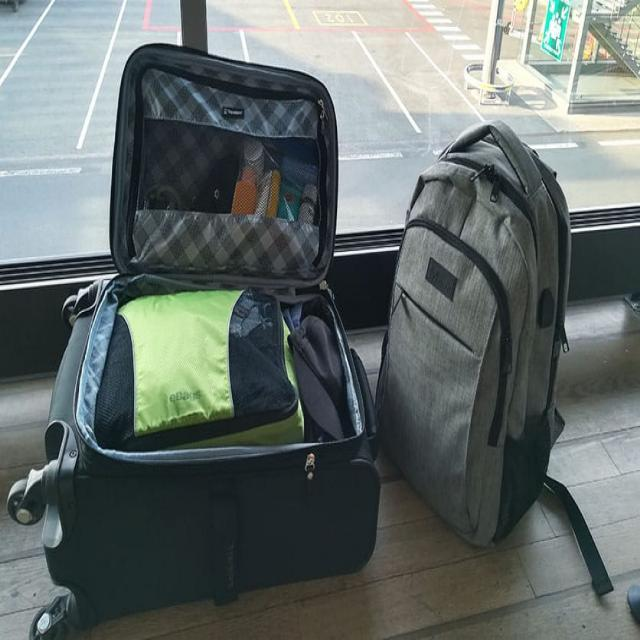Backpacks: (376, 114, 574, 548)
